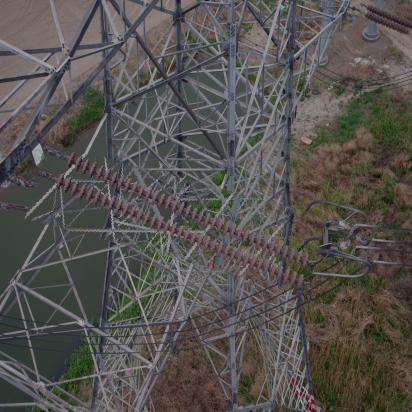insulator: (29, 161, 326, 277), (357, 1, 412, 33)
